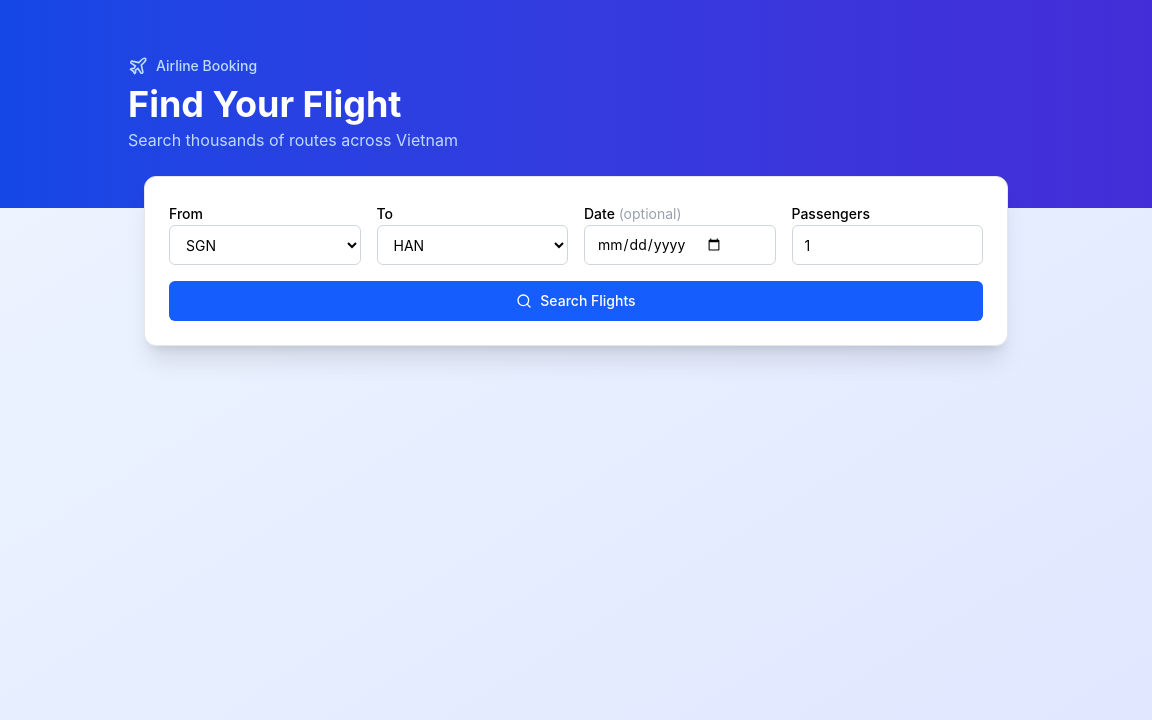
Test: SearchPage › submits search and shows flight cards from API
This screenshot has width=1152, height=720.
Click the button "Search Flights".
click(576, 301)  # box [169, 281, 983, 321]
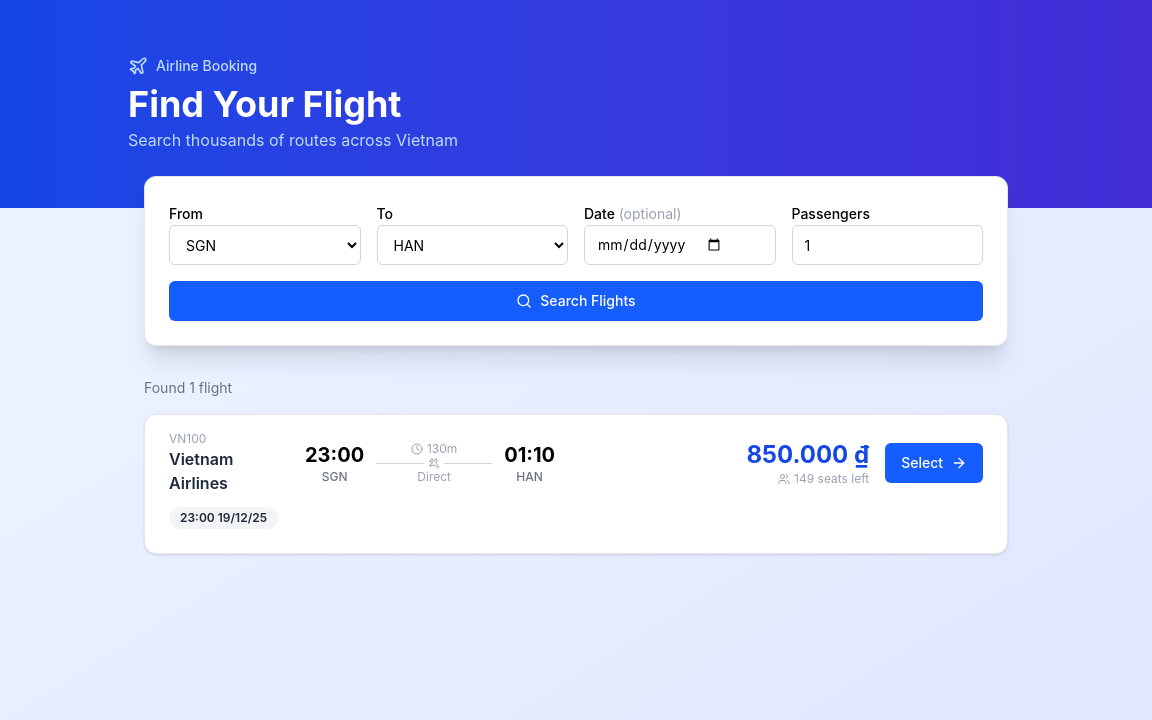
Check: the text "VN100" is shown, box [169, 431, 206, 446]
